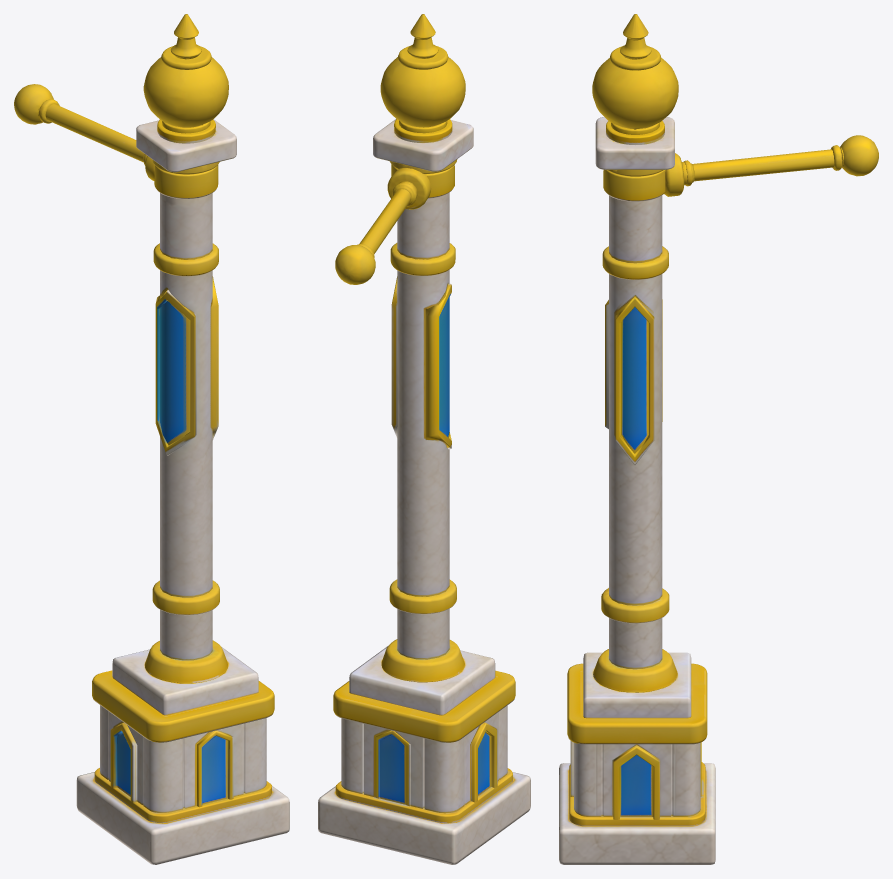
Rendered from HaloFlagpole_1_SM_tex4k_pbr_src.fbx.
3 renders of one model, left to right at view 1: azimuth 30°, elevation 25°; view 2: azimuth 150°, elevation 25°; view 3: azimuth 270°, elevation 25°, orthographic.
Parts seen in each view (by area): view 1: tripo_4e0f0ab0_1ae3_4d04_bf7d_20dd4e0a2a27; view 2: tripo_4e0f0ab0_1ae3_4d04_bf7d_20dd4e0a2a27; view 3: tripo_4e0f0ab0_1ae3_4d04_bf7d_20dd4e0a2a27.
Part boxes in pixels (x1=…): tripo_4e0f0ab0_1ae3_4d04_bf7d_20dd4e0a2a27: x1=14, y1=14, x2=289, y2=864; tripo_4e0f0ab0_1ae3_4d04_bf7d_20dd4e0a2a27: x1=318, y1=14, x2=530, y2=864; tripo_4e0f0ab0_1ae3_4d04_bf7d_20dd4e0a2a27: x1=559, y1=14, x2=878, y2=864.
Size of the model in its own units: 0.1802 by 0.9995 by 0.354.
Materials: 1 (1 with a texture image).
